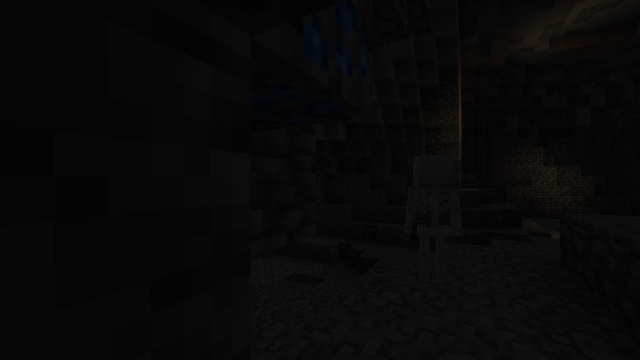squelettes: (409, 154, 453, 290)
